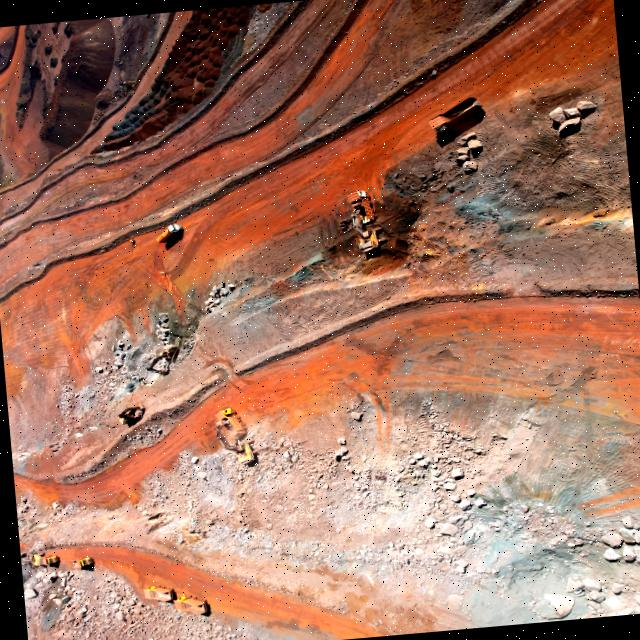Dumper truck: (428, 98, 482, 134), (171, 594, 203, 612), (142, 584, 172, 600), (342, 190, 371, 202), (69, 557, 92, 569), (216, 406, 234, 420), (38, 554, 58, 564)
Excavator: (144, 344, 180, 376), (351, 226, 386, 252), (232, 442, 256, 464), (115, 406, 141, 426), (214, 420, 230, 451), (350, 202, 363, 235), (19, 552, 36, 567)
person: (158, 270, 164, 274), (141, 282, 147, 284)
